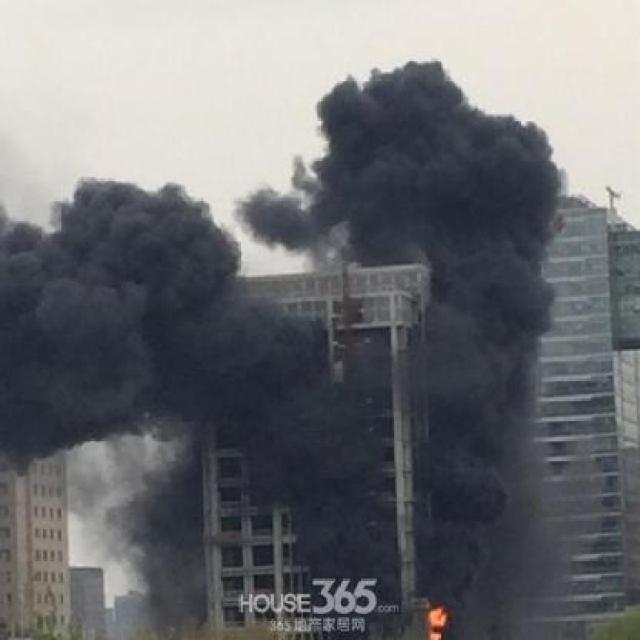Smoke: (264, 52, 570, 576), (430, 595, 460, 640)
